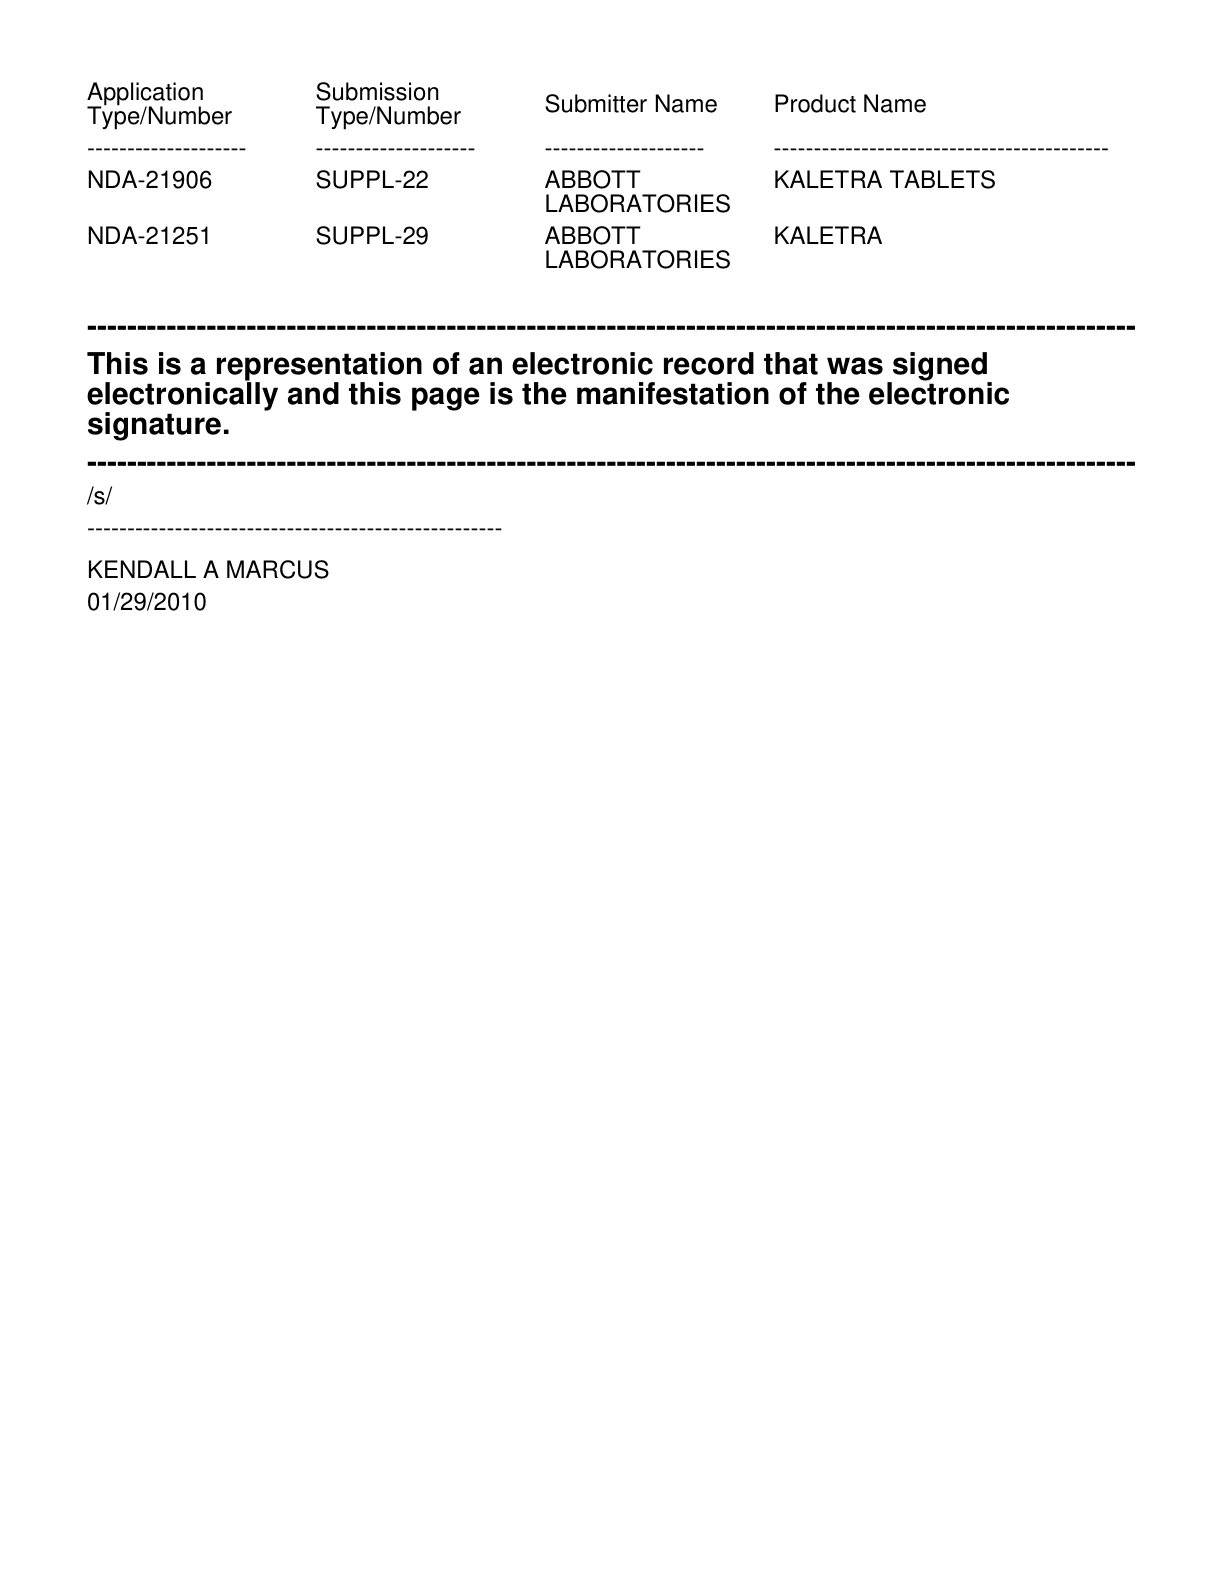nolines: (84, 77, 1113, 276)
